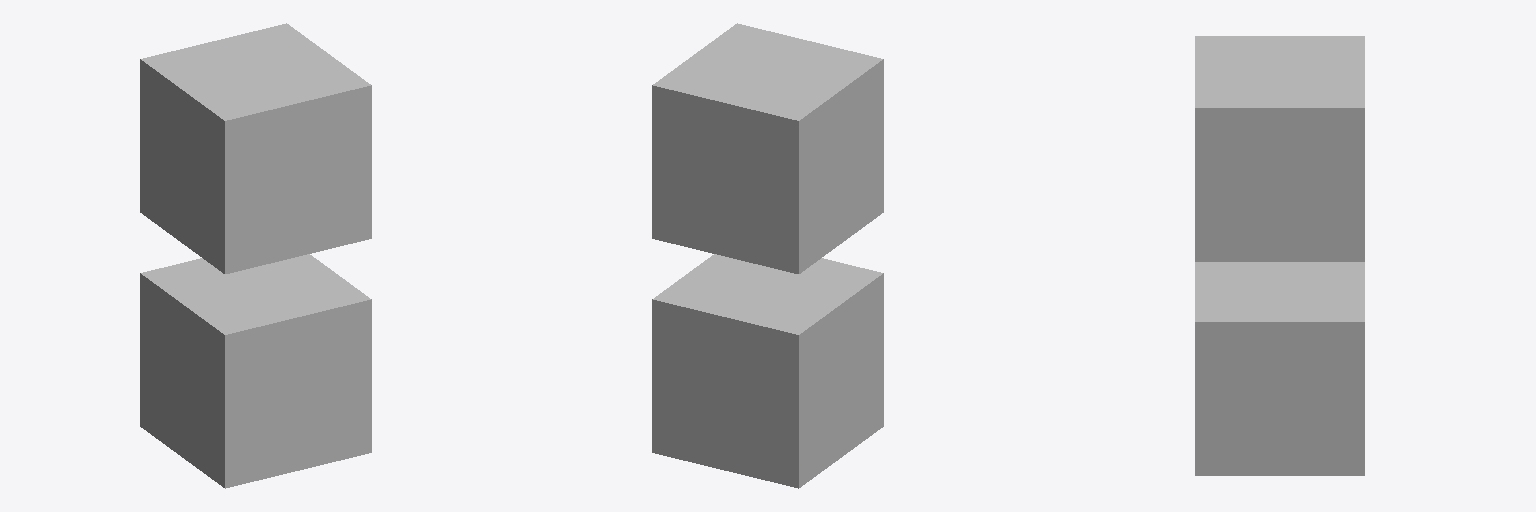
Rendered from position_test.obj.
The picture shows the model from 3 angles: view 1: azimuth 30°, elevation 25°; view 2: azimuth 150°, elevation 25°; view 3: azimuth 270°, elevation 25°; orthographic projection.
Visible parts, largest first — view 1: PointCube_Cube.001, Cube; view 2: PointCube_Cube.001, Cube; view 3: PointCube_Cube.001, Cube.
Part boxes in pixels (left/top/right/bottom): PointCube_Cube.001: left=140, top=23, right=371, bottom=273; Cube: left=140, top=254, right=371, bottom=488; PointCube_Cube.001: left=652, top=23, right=883, bottom=273; Cube: left=652, top=254, right=883, bottom=488; PointCube_Cube.001: left=1195, top=36, right=1364, bottom=261; Cube: left=1195, top=262, right=1364, bottom=475.
Bounding box in the file's own units: 2 × 4.79 × 2.